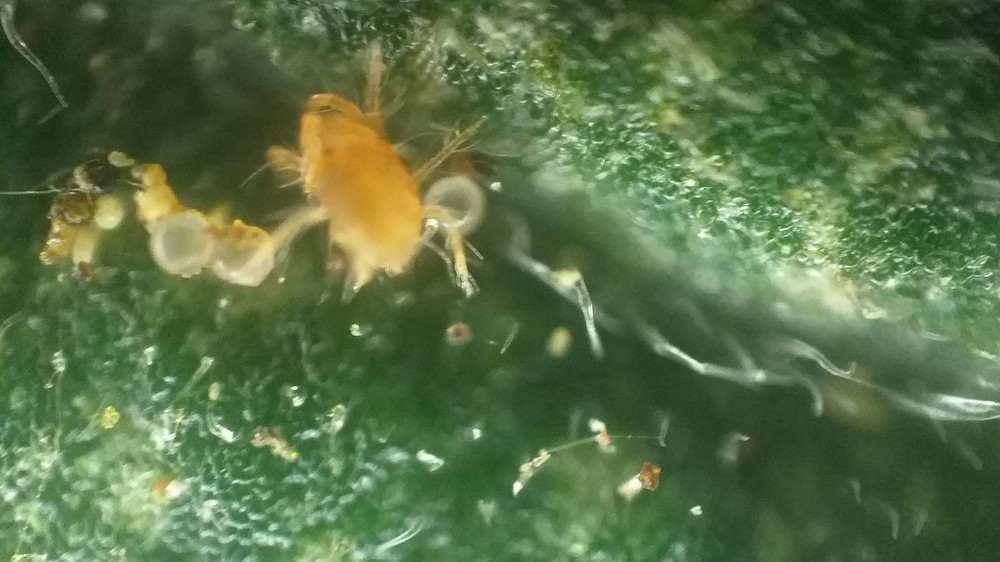Aracnido Rojo: (223, 41, 494, 303)
